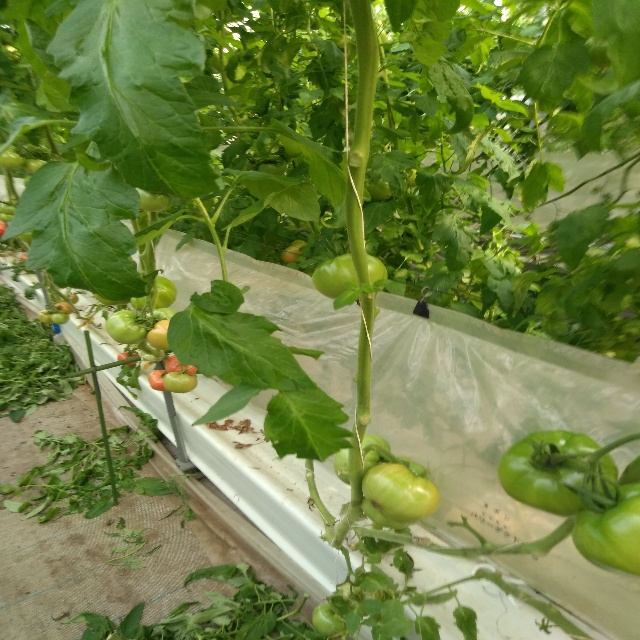b_green: (499, 430, 618, 518), (570, 482, 638, 580), (362, 463, 441, 524), (312, 253, 388, 301), (334, 434, 391, 485), (362, 496, 417, 529), (130, 275, 175, 312), (105, 310, 147, 345), (312, 602, 346, 636), (136, 189, 173, 213), (163, 372, 198, 393), (145, 308, 177, 328), (53, 312, 70, 325)
b_half_ripened: (147, 319, 170, 350), (166, 355, 198, 376), (148, 370, 169, 391), (117, 351, 140, 366), (38, 309, 57, 323), (54, 302, 72, 314)
